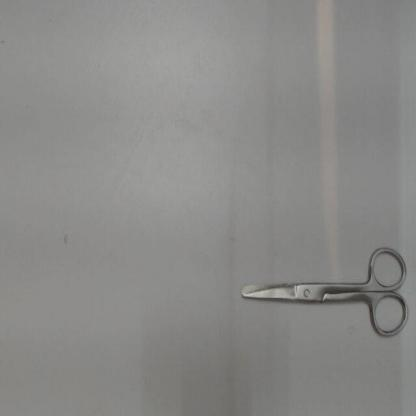Dressing Scissors: (236, 238, 413, 346)
